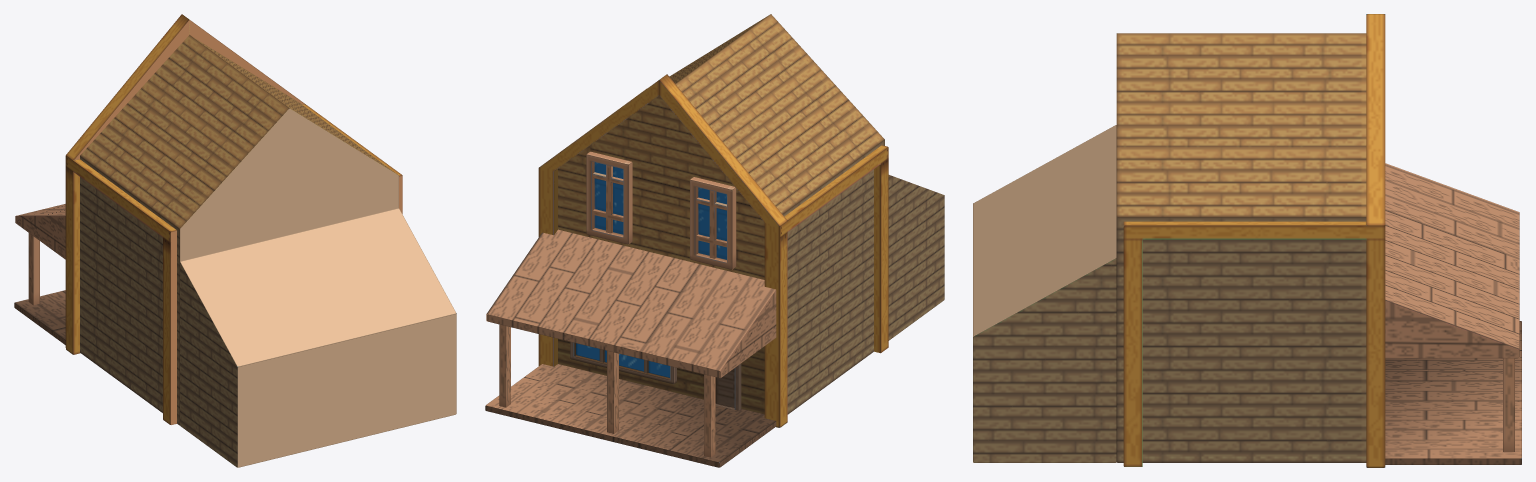
Rendered from Nha_1.fbx.
3 views of the same model, side by side, from view 1: azimuth 30°, elevation 25°; view 2: azimuth 150°, elevation 25°; view 3: azimuth 270°, elevation 25° (orthographic). The views are drawn at different scales.
Parts seen in each view (by area): view 1: cuboid_1, cuboid, cuboid_2, cuboid_4, cuboid_3, cuboid_10; view 2: cuboid, cuboid_4, cuboid_2, cuboid_3, cuboid_1, cuboid_8, cuboid_9, cuboid_7, cuboid_5, cuboid_6, cuboid_12, cuboid_11 (+1 smaller); view 3: cuboid, cuboid_1, cuboid_4, cuboid_2, cuboid_3, cuboid_12.
Part boxes in pixels (left/top/right/bottom): cuboid_1: left=180, top=208, right=456, bottom=467; cuboid: left=80, top=35, right=398, bottom=425; cuboid_2: left=65, top=14, right=402, bottom=424; cuboid_4: left=15, top=204, right=65, bottom=259; cuboid_3: left=14, top=290, right=65, bottom=344; cuboid_10: left=28, top=233, right=39, bottom=305; cuboid: left=554, top=14, right=884, bottom=414; cuboid_4: left=486, top=229, right=776, bottom=378; cuboid_2: left=538, top=74, right=888, bottom=427; cuboid_3: left=485, top=364, right=776, bottom=467; cuboid_1: left=888, top=175, right=944, bottom=340; cuboid_8: left=690, top=177, right=736, bottom=269; cuboid_9: left=586, top=151, right=632, bottom=244; cuboid_7: left=570, top=342, right=676, bottom=384; cuboid_5: left=593, top=165, right=726, bottom=258; cuboid_6: left=715, top=363, right=741, bottom=410; cuboid_12: left=499, top=324, right=510, bottom=407; cuboid_11: left=607, top=351, right=618, bottom=433; cuboid: left=1116, top=33, right=1366, bottom=462; cuboid_1: left=973, top=125, right=1116, bottom=462; cuboid_4: left=1385, top=163, right=1519, bottom=358; cuboid_2: left=1123, top=14, right=1385, bottom=467; cuboid_3: left=1385, top=321, right=1521, bottom=464; cuboid_12: left=1503, top=358, right=1514, bottom=451.
Size of the model in its own units: 888 by 1122 by 1456.
Materials: 1 (1 with a texture image).
